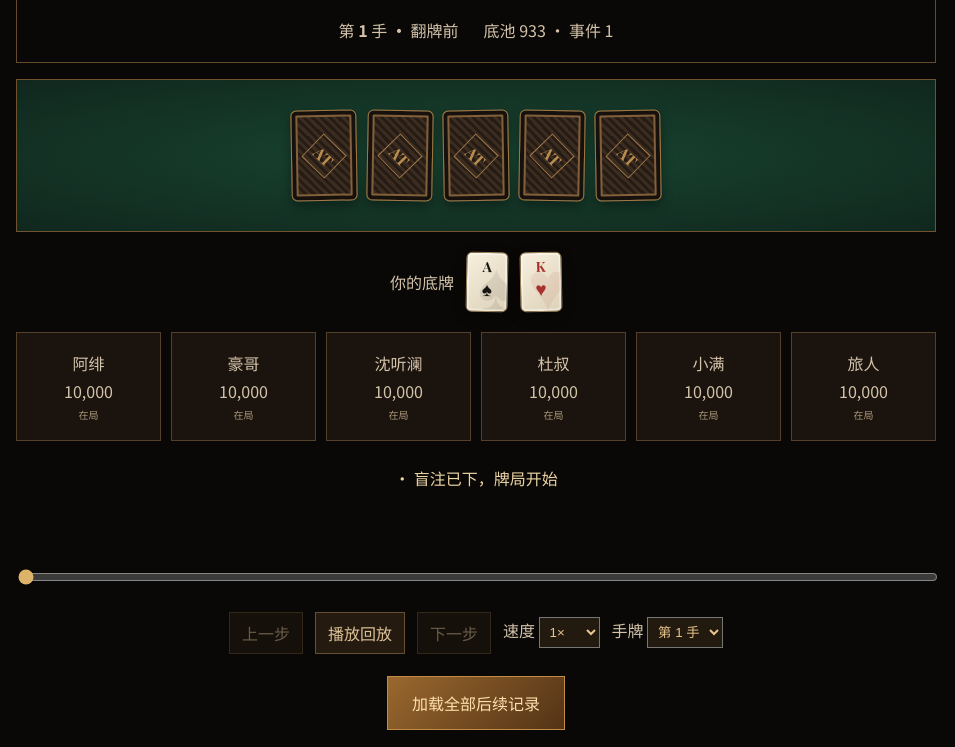
Test: replay pagination › continues playback across pages and shows the latest table talk
(page scrolled)
Select "4×" in the dropdown named "回放速度" at x=569, y=633, box [538,617,600,648]
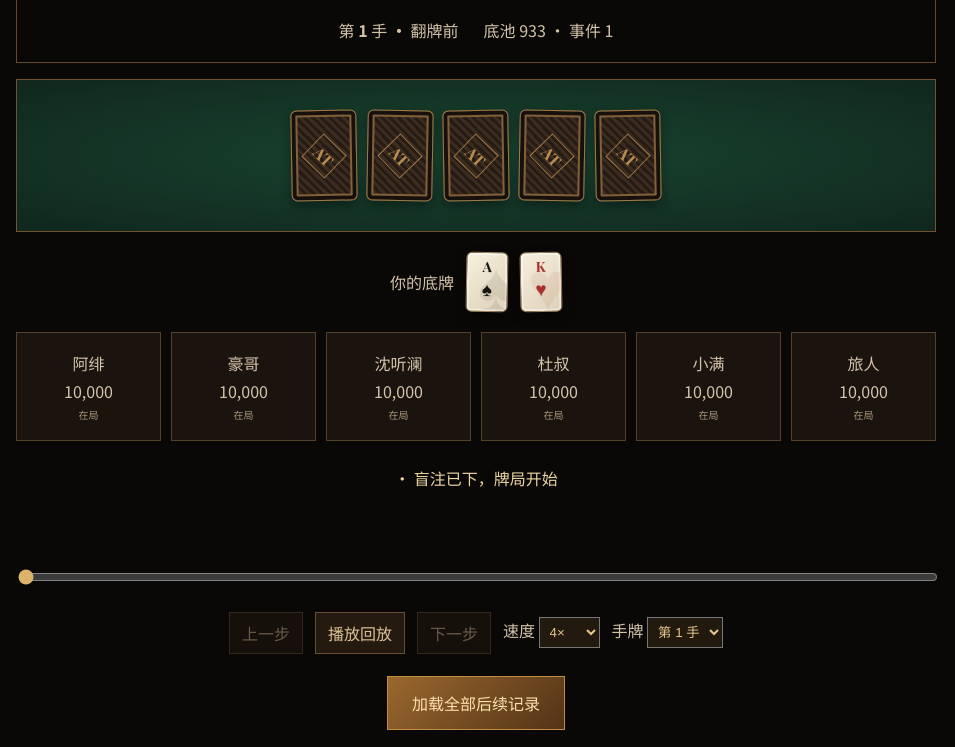
Click the button "播放回放" at x=360, y=633, box [315,612,405,654]
(page scrolled)
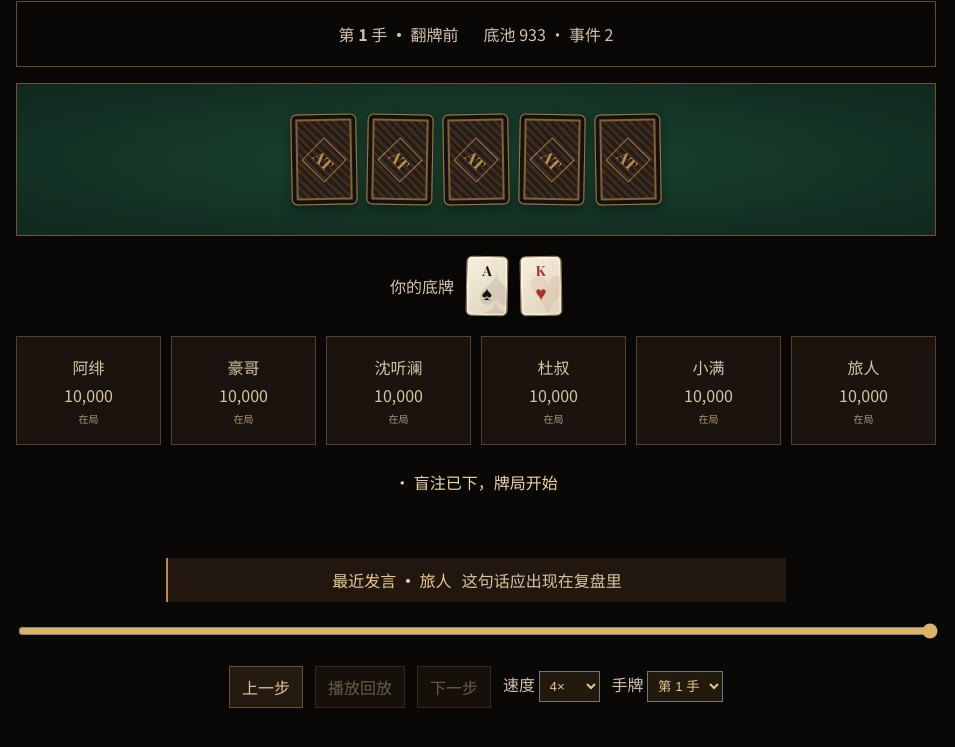
Expected: the text "这句话应出现在复盘里" is shown, [462,568,622,592]
Expected: the text "底池 933 · 事件 2" is shown, [484,22,614,46]
